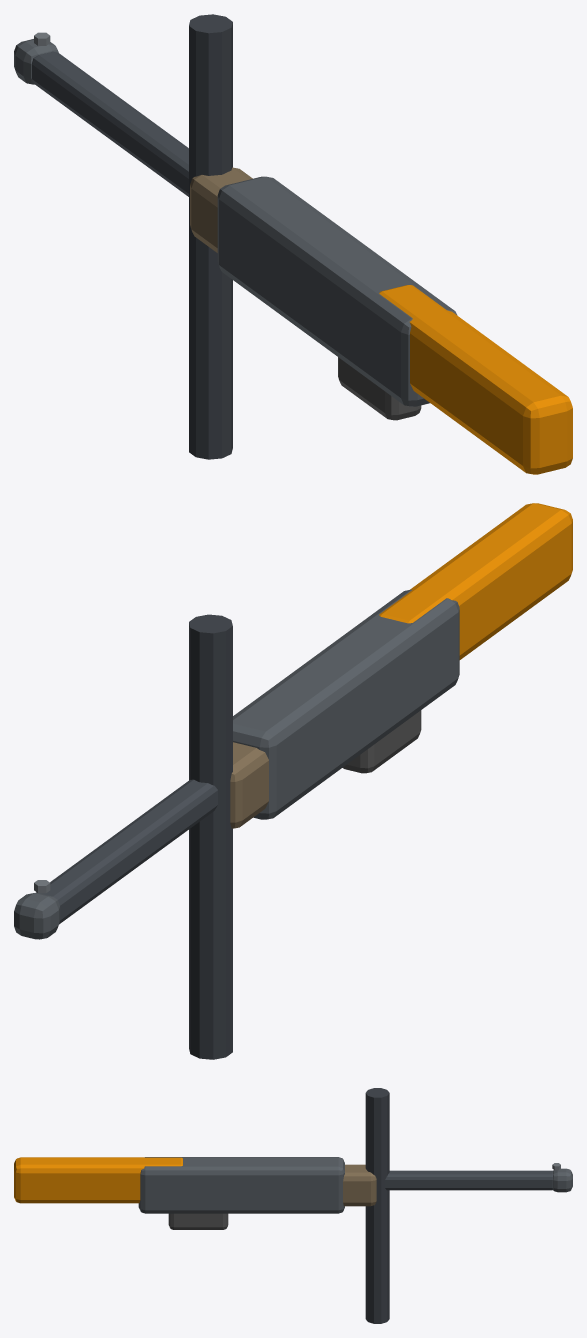
File: weapon_shotgun.glb
3 views of the same model, one above another, from view 1: azimuth 30°, elevation 25°; view 2: azimuth 150°, elevation 25°; view 3: azimuth 270°, elevation 25° (orthographic). The views are drawn at different scales.
Visible parts, largest first — view 1: SG_Receiver, SG_Stock, SG_MagTube, SG_Barrel, SG_Pump, SG_Grip, SG_Muzzle; view 2: SG_Receiver, SG_MagTube, SG_Stock, SG_Barrel, SG_Pump, SG_Muzzle, SG_Grip; view 3: SG_Receiver, SG_Stock, SG_MagTube, SG_Barrel, SG_Pump, SG_Grip, SG_Muzzle.
Boxes of the visible parts, <box> form: SG_Receiver: <box>217,176,457,406</box>; SG_Stock: <box>379,285,572,474</box>; SG_MagTube: <box>189,14,232,459</box>; SG_Barrel: <box>32,51,188,196</box>; SG_Pump: <box>190,167,252,252</box>; SG_Grip: <box>338,357,421,420</box>; SG_Muzzle: <box>14,39,58,84</box>; SG_Receiver: <box>233,589,459,819</box>; SG_MagTube: <box>189,614,232,1059</box>; SG_Stock: <box>379,503,572,659</box>; SG_Barrel: <box>36,779,217,924</box>; SG_Pump: <box>230,742,268,828</box>; SG_Muzzle: <box>14,893,59,939</box>; SG_Grip: <box>342,710,421,773</box>; SG_Receiver: <box>138,1157,344,1213</box>; SG_Stock: <box>14,1157,182,1203</box>; SG_MagTube: <box>365,1088,389,1323</box>; SG_Barrel: <box>385,1170,553,1190</box>; SG_Pump: <box>343,1164,376,1206</box>; SG_Grip: <box>168,1213,228,1229</box>; SG_Muzzle: <box>553,1168,572,1192</box>.
Size of the model in its own units: 0.065 by 0.46 by 1.03.
